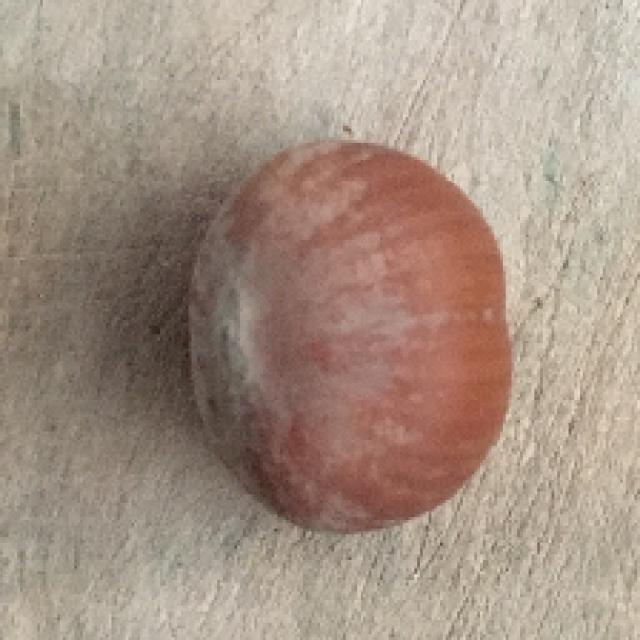qualityHazelnut: (198, 139, 521, 534)
